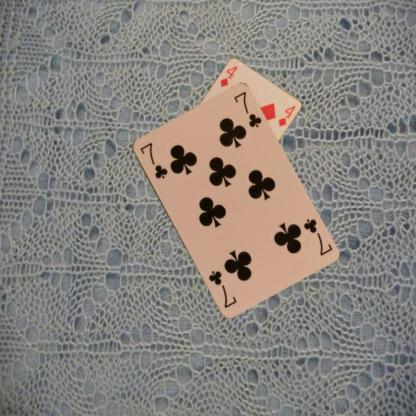4d: (218, 63, 238, 88)
7c: (300, 216, 334, 257), (137, 140, 169, 180)
